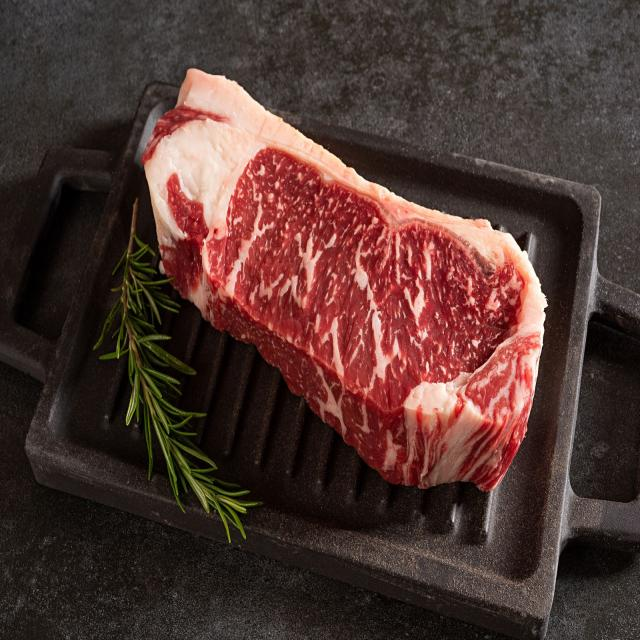carne de res: (133, 58, 552, 498)
